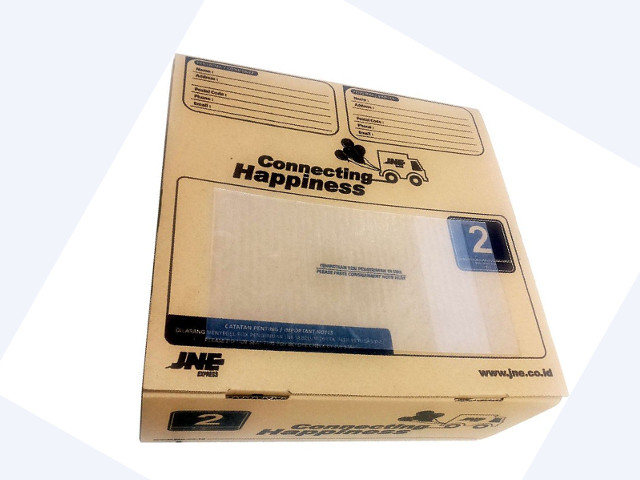cardboard: (136, 52, 560, 442)
